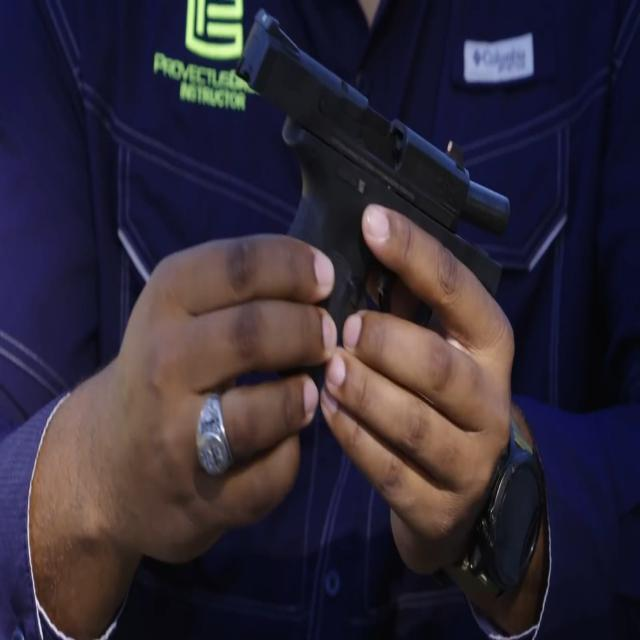handgun: (196, 0, 529, 396)
